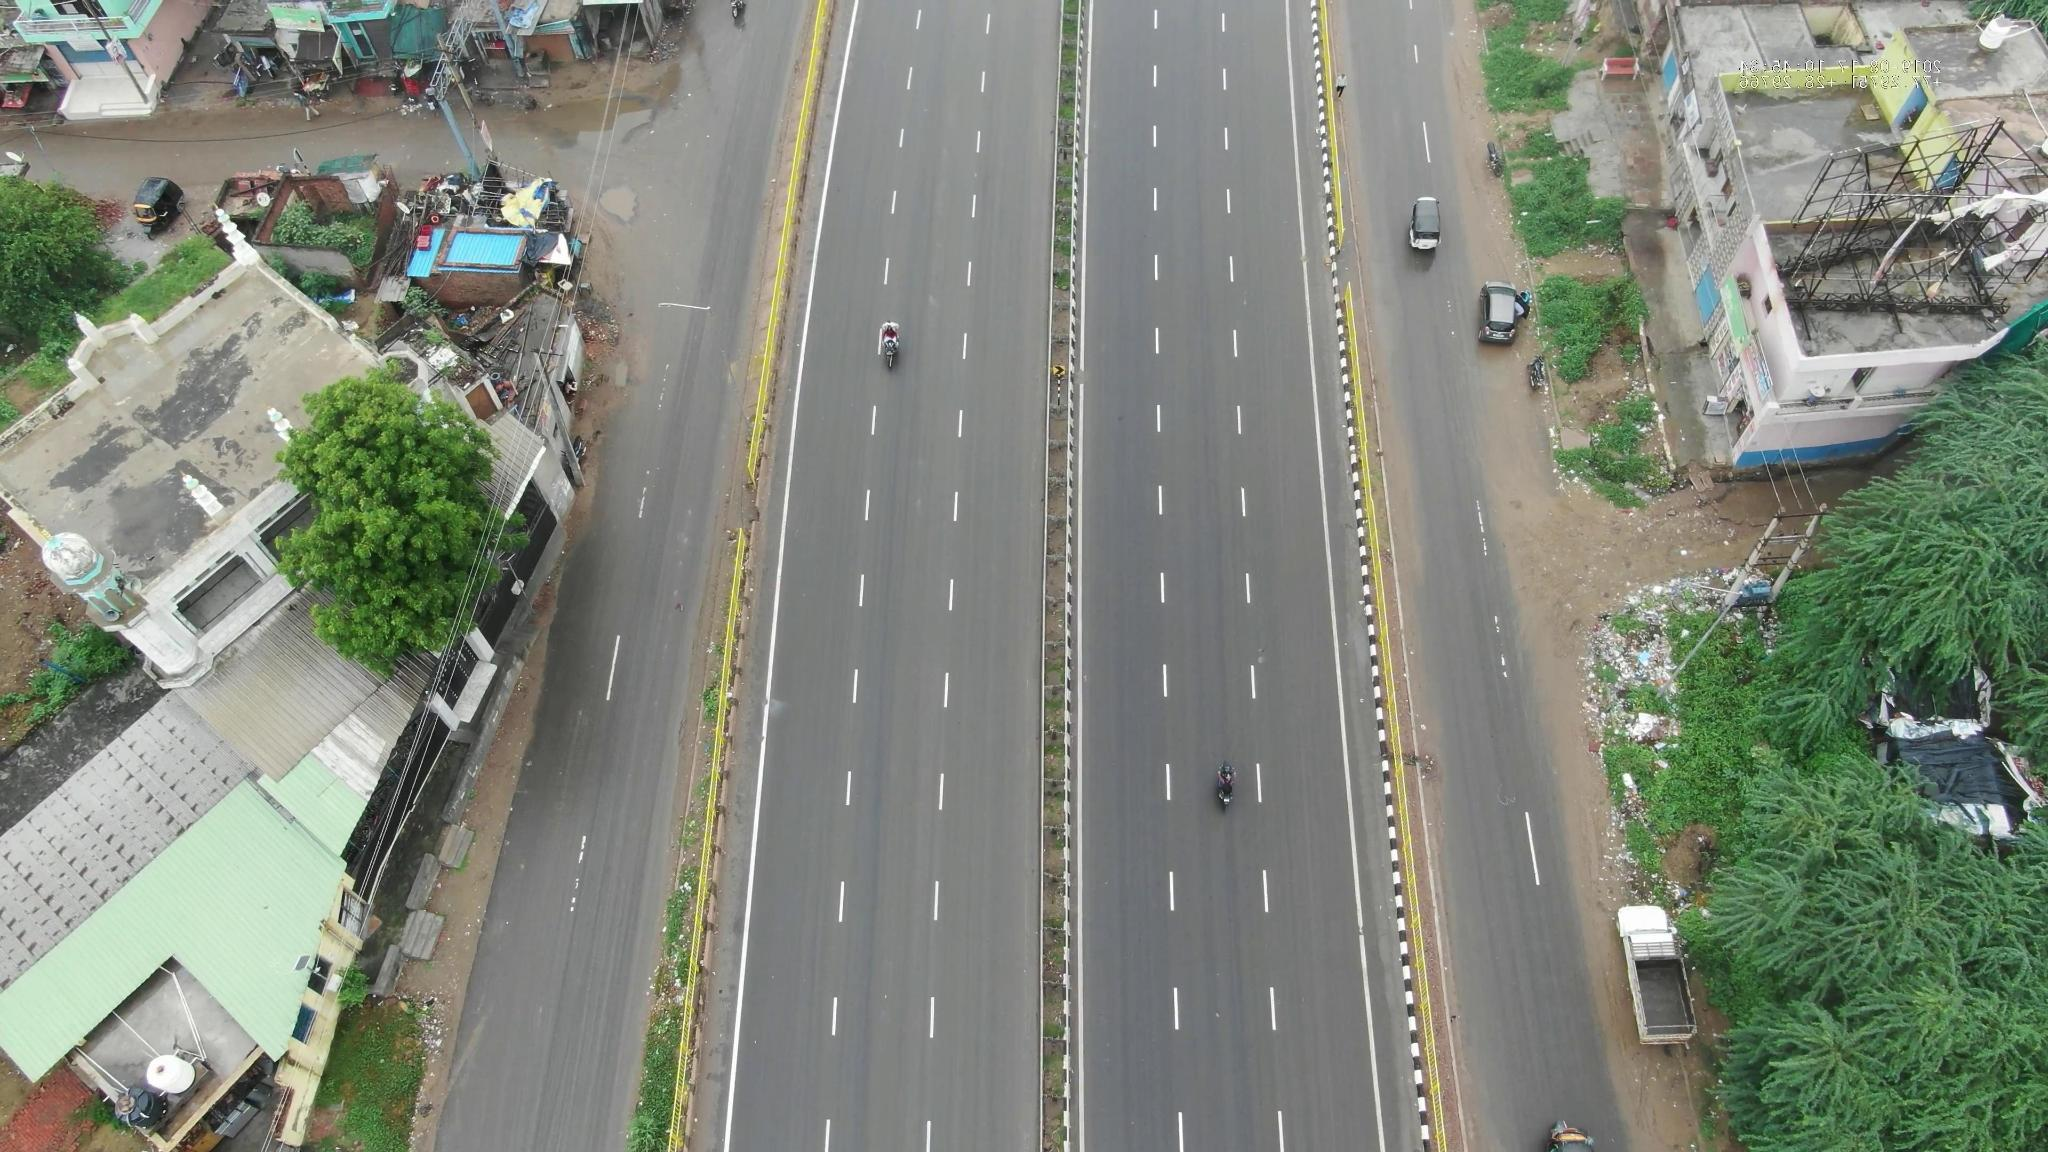Muddy_road: (1461, 172, 1523, 279), (1508, 489, 1582, 558)
Road_side_garbage: (1582, 582, 1701, 740)
Waterlogging: (505, 84, 663, 159)
